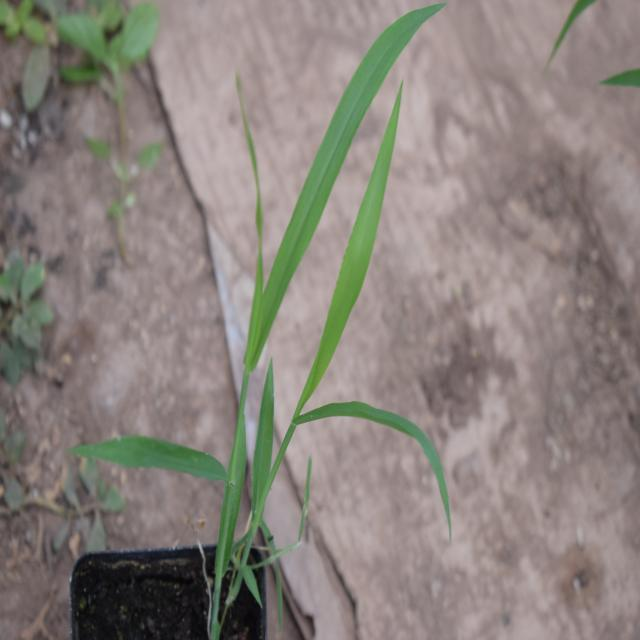crabgrass: (182, 11, 480, 536)
